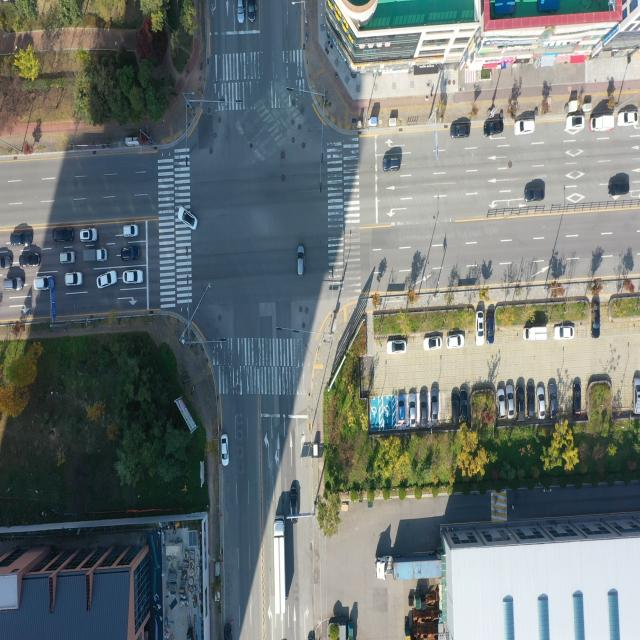car: (177, 207, 198, 230), (590, 300, 602, 338), (553, 322, 575, 342), (616, 110, 639, 128), (546, 382, 557, 418), (572, 377, 582, 415), (450, 122, 471, 140), (482, 120, 504, 137), (566, 113, 584, 133), (53, 226, 74, 243), (18, 251, 40, 267), (289, 486, 298, 524), (631, 378, 640, 416), (513, 120, 537, 134), (606, 181, 630, 195), (383, 157, 402, 174), (295, 244, 305, 276), (219, 434, 228, 468), (474, 313, 483, 347), (487, 310, 496, 344), (12, 232, 32, 247), (98, 272, 116, 288), (506, 382, 514, 418), (516, 386, 524, 422), (125, 271, 144, 286), (34, 276, 53, 291), (527, 383, 535, 418), (537, 386, 545, 421), (123, 246, 140, 262), (419, 390, 427, 424), (423, 336, 441, 351), (527, 188, 546, 202), (431, 386, 438, 424), (4, 278, 23, 291), (82, 230, 98, 245), (65, 273, 82, 287), (409, 392, 416, 426), (447, 334, 464, 348), (247, 0, 257, 22), (221, 620, 232, 640), (497, 392, 505, 419), (124, 226, 139, 240), (0, 255, 14, 270), (397, 396, 405, 422), (237, 0, 246, 23), (389, 341, 406, 353), (60, 251, 76, 263)
large_truck: (374, 552, 442, 584)
medium_truck: (271, 514, 287, 618)
small_truck: (522, 321, 548, 343), (592, 115, 613, 132), (82, 249, 108, 262)
